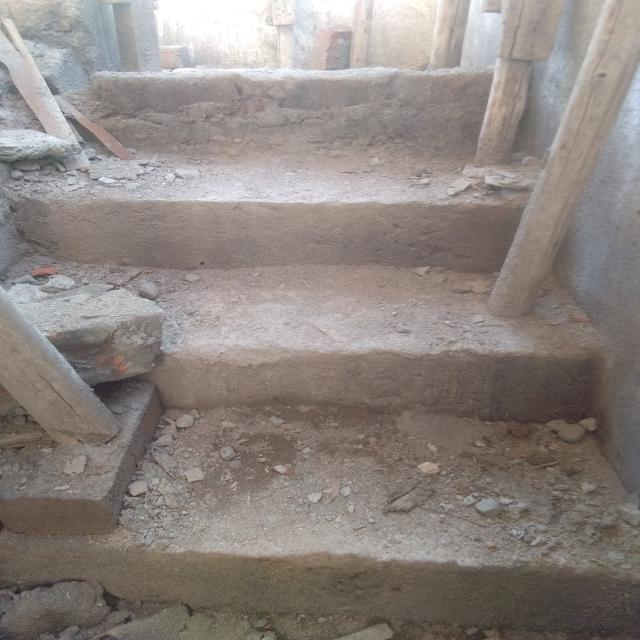Stairs: (42, 49, 590, 574)
